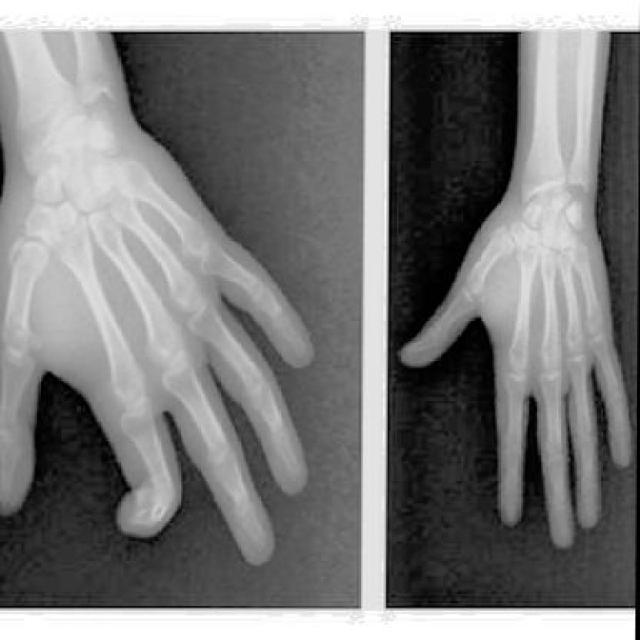Fracture: (6, 235, 53, 280), (486, 223, 516, 268)
